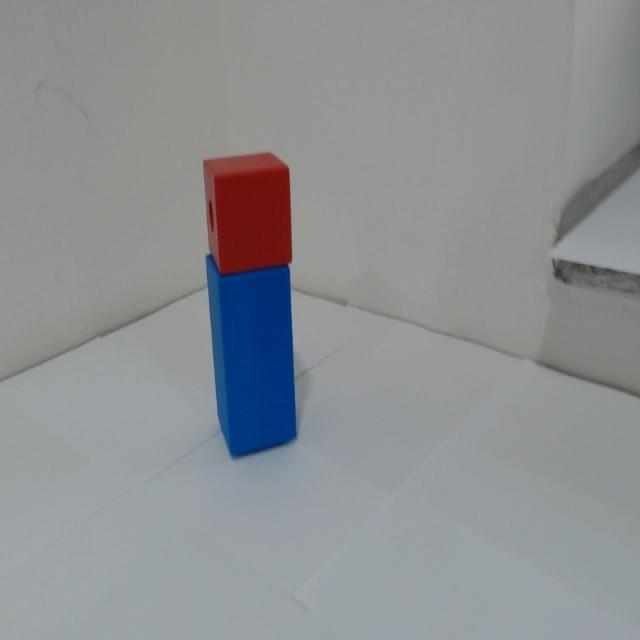cube: (189, 148, 312, 278)
